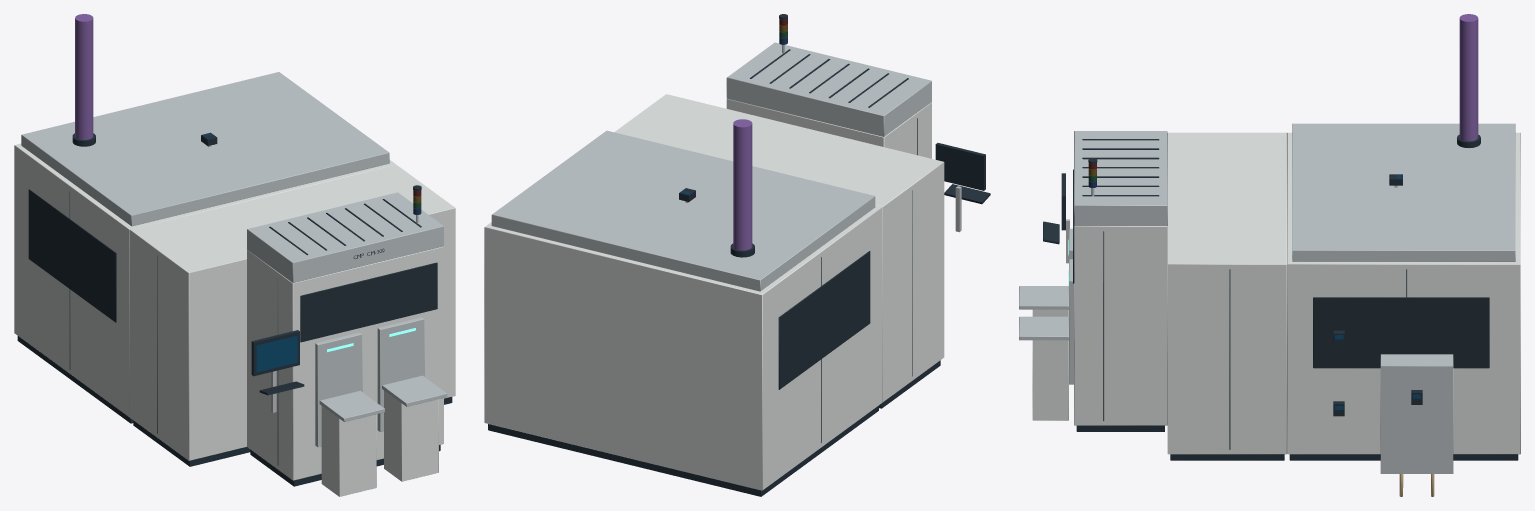
Rendered from fab1-tool-cmp.glb.
The picture shows the model from 3 angles, left to right: view 1: azimuth 30°, elevation 25°; view 2: azimuth 150°, elevation 25°; view 3: azimuth 270°, elevation 25°; orthographic projection. The views are drawn at different scales.
Visible parts, largest first — view 1: TOOL_CMP_Polisher, TOOL_CMP_Cleaner, TOOL_CMP_EFEM, TOOL_CMP_LoadPorts, TOOL_CMP_Exhaust, TOOL_CMP_Operator, TOOL_HMI_Screen; view 2: TOOL_CMP_Polisher, TOOL_CMP_Cleaner, TOOL_CMP_EFEM, TOOL_CMP_Exhaust, TOOL_CMP_Operator; view 3: TOOL_CMP_Polisher, TOOL_CMP_Cleaner, TOOL_CMP_EFEM, TOOL_CMP_SlurryBox, TOOL_CMP_LoadPorts, TOOL_CMP_Exhaust, TOOL_CMP_Operator.
Part boxes in pixels (bbox=[...]): TOOL_CMP_Polisher: bbox=[14, 72, 396, 423]; TOOL_CMP_Cleaner: bbox=[130, 165, 455, 466]; TOOL_CMP_EFEM: bbox=[247, 192, 443, 486]; TOOL_CMP_LoadPorts: bbox=[315, 317, 447, 496]; TOOL_CMP_Exhaust: bbox=[72, 14, 95, 146]; TOOL_CMP_Operator: bbox=[251, 330, 304, 412]; TOOL_HMI_Screen: bbox=[256, 335, 297, 372]; TOOL_CMP_Polisher: bbox=[484, 130, 882, 496]; TOOL_CMP_Cleaner: bbox=[614, 94, 944, 408]; TOOL_CMP_EFEM: bbox=[726, 42, 931, 158]; TOOL_CMP_Exhaust: bbox=[730, 119, 754, 257]; TOOL_CMP_Operator: bbox=[935, 143, 990, 232]; TOOL_CMP_Polisher: bbox=[1287, 123, 1520, 460]; TOOL_CMP_Cleaner: bbox=[1167, 132, 1286, 460]; TOOL_CMP_EFEM: bbox=[1073, 131, 1167, 431]; TOOL_CMP_SlurryBox: bbox=[1380, 354, 1453, 496]; TOOL_CMP_LoadPorts: bbox=[1019, 228, 1074, 420]; TOOL_CMP_Exhaust: bbox=[1457, 14, 1480, 147]; TOOL_CMP_Operator: bbox=[1043, 173, 1069, 263].
Bounding box in the file's own units: 3.41 × 3.85 × 4.83.
Materials: 3 (1 with a texture image).
